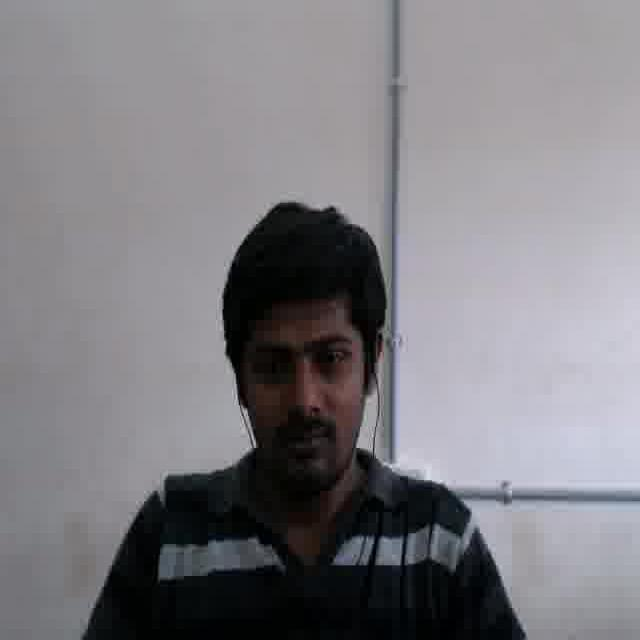Engaged: (240, 291, 362, 488)
